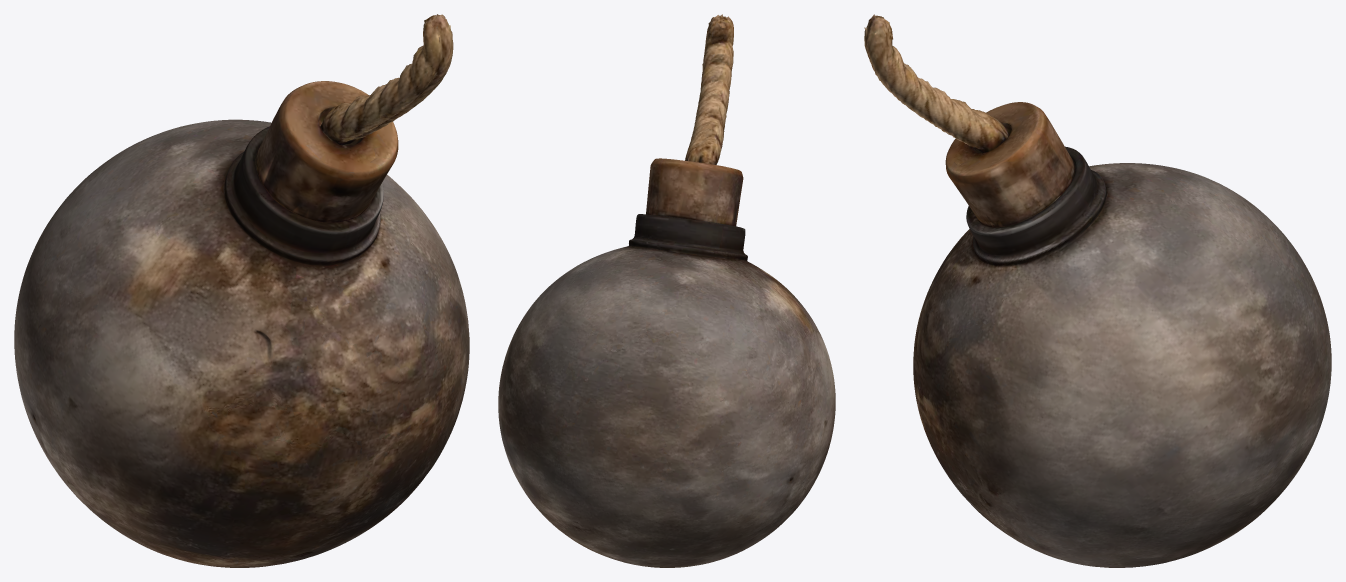
File: bomb-Dig8raTT.glb
The picture shows the model from 3 angles, left to right: view 1: azimuth 30°, elevation 25°; view 2: azimuth 150°, elevation 25°; view 3: azimuth 270°, elevation 25°; orthographic projection. The views are drawn at different scales.
Visible parts, largest first — view 1: material; view 2: material; view 3: material.
Boxes of the visible parts, x1,y1,x2,y2 form: material: [14, 14, 469, 567]; material: [498, 14, 835, 567]; material: [864, 14, 1331, 567].
Bounding box in the file's own units: 0.6392 × 0.9578 × 0.7276.
Materials: 1 (1 with a texture image).
